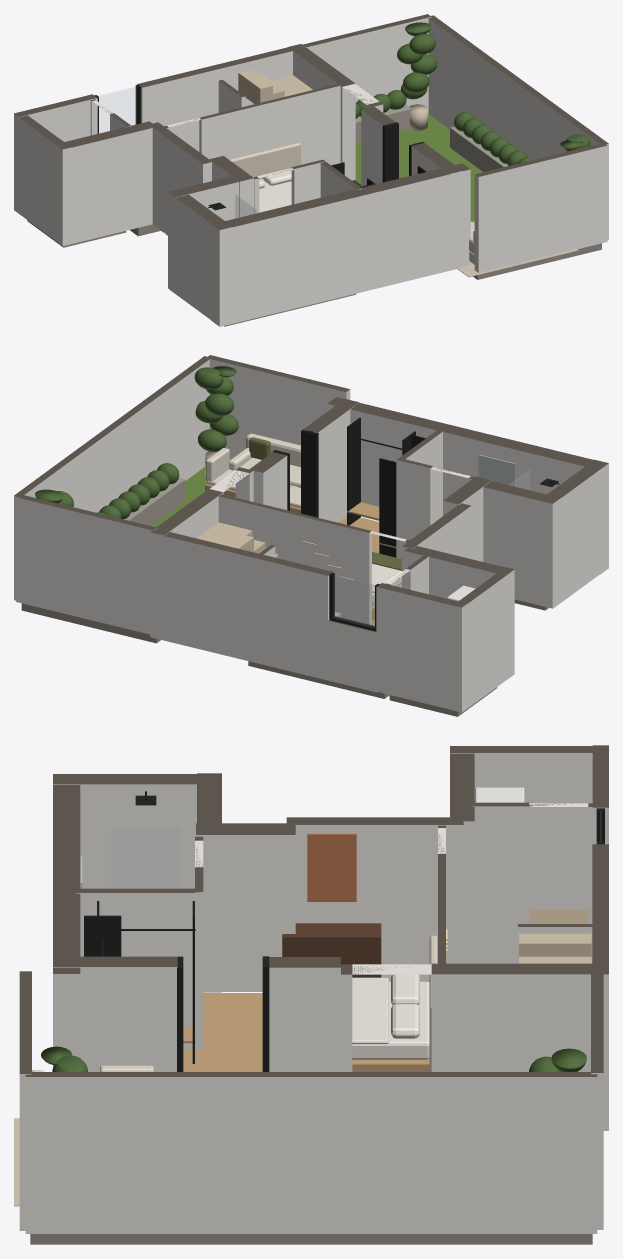
The model's file is apt-3-2.glb.
The picture shows the model from 3 angles, top to bottom: view 1: azimuth 30°, elevation 25°; view 2: azimuth 150°, elevation 25°; view 3: azimuth 270°, elevation 25°; orthographic projection. The views are drawn at different scales.
Visible parts, largest first — view 1: Wall lo-S, Parapet 5, Parapet 4, Wall svc-S, Wall master-N.001, Wall lo-N.001, Wall svc-W, Wall bathlo-W, Parapet 3, Wall master-W, Wall lo-E-N, Wall bathlo-NW (+21 smaller); view 2: Wall lo-N.001, Parapet 3, Parapet 4, Wall lo-S, Wall lo-N, Wall master-N.001, Wall bathlo-NW, Parapet 5, Wall svc-W, Wall bathlo-W, Wall lo-E-S.001, lo-N window 0 | sill wall (+26 smaller); view 3: Parapet 4, Wall lo-E-N, Wall master-W, Wall master-SW, Wall bathlo-W, Wall svc-W, Wall lo-E-S.001, Wall svc-E.001, Wall lo-E-S, Wall walkin-W, Wall lo-S, Slab | garden (+27 smaller).
Part boxes in pixels (x1=…): Wall lo-S: x1=211, y1=163, x2=470, y2=326; Parapet 5: x1=474, y1=143, x2=607, y2=272; Parapet 4: x1=428, y1=15, x2=608, y2=240; Wall svc-S: x1=56, y1=121, x2=152, y2=245; Wall master-N.001: x1=199, y1=84, x2=340, y2=165; Wall lo-N.001: x1=137, y1=47, x2=292, y2=151; Wall svc-W: x1=14, y1=114, x2=71, y2=245; Wall bathlo-W: x1=169, y1=194, x2=232, y2=326; Parapet 3: x1=301, y1=14, x2=431, y2=113; Wall master-W: x1=148, y1=122, x2=211, y2=234; Wall lo-E-N: x1=288, y1=44, x2=355, y2=180; Wall bathlo-NW: x1=168, y1=176, x2=239, y2=293; Wall lo-N.001: x1=151, y1=532, x2=333, y2=680; Parapet 3: x1=16, y1=494, x2=157, y2=634; Parapet 4: x1=14, y1=356, x2=209, y2=600; Wall lo-S: x1=327, y1=397, x2=608, y2=574; Wall lo-N: x1=376, y1=583, x2=466, y2=712; Wall master-N.001: x1=218, y1=494, x2=371, y2=624; Wall bathlo-NW: x1=483, y1=481, x2=560, y2=608; Parapet 5: x1=206, y1=355, x2=350, y2=459; Wall svc-W: x1=453, y1=567, x2=514, y2=712; Wall bathlo-W: x1=547, y1=459, x2=608, y2=608; Wall lo-E-S.001: x1=303, y1=399, x2=359, y2=522; lo-N window 0 | sill wall: x1=328, y1=620, x2=376, y2=692; Parapet 4: x1=25, y1=1072, x2=597, y2=1233; Wall lo-E-N: x1=431, y1=963, x2=608, y2=1130; Wall master-W: x1=286, y1=817, x2=463, y2=981; Wall master-SW: x1=196, y1=823, x2=295, y2=991; Wall bathlo-W: x1=53, y1=774, x2=196, y2=888; Wall svc-W: x1=450, y1=746, x2=592, y2=909; Wall lo-E-S.001: x1=53, y1=956, x2=177, y2=1071; Wall svc-E.001: x1=472, y1=802, x2=529, y2=962; Wall lo-E-S: x1=269, y1=957, x2=340, y2=1071; Wall walkin-W: x1=75, y1=888, x2=200, y2=1049; Wall lo-S: x1=53, y1=785, x2=80, y2=1067; Slab | garden: x1=30, y1=1234, x2=592, y2=1244.
Size of the model in its own units: 9.48 by 2.32 by 7.21.
